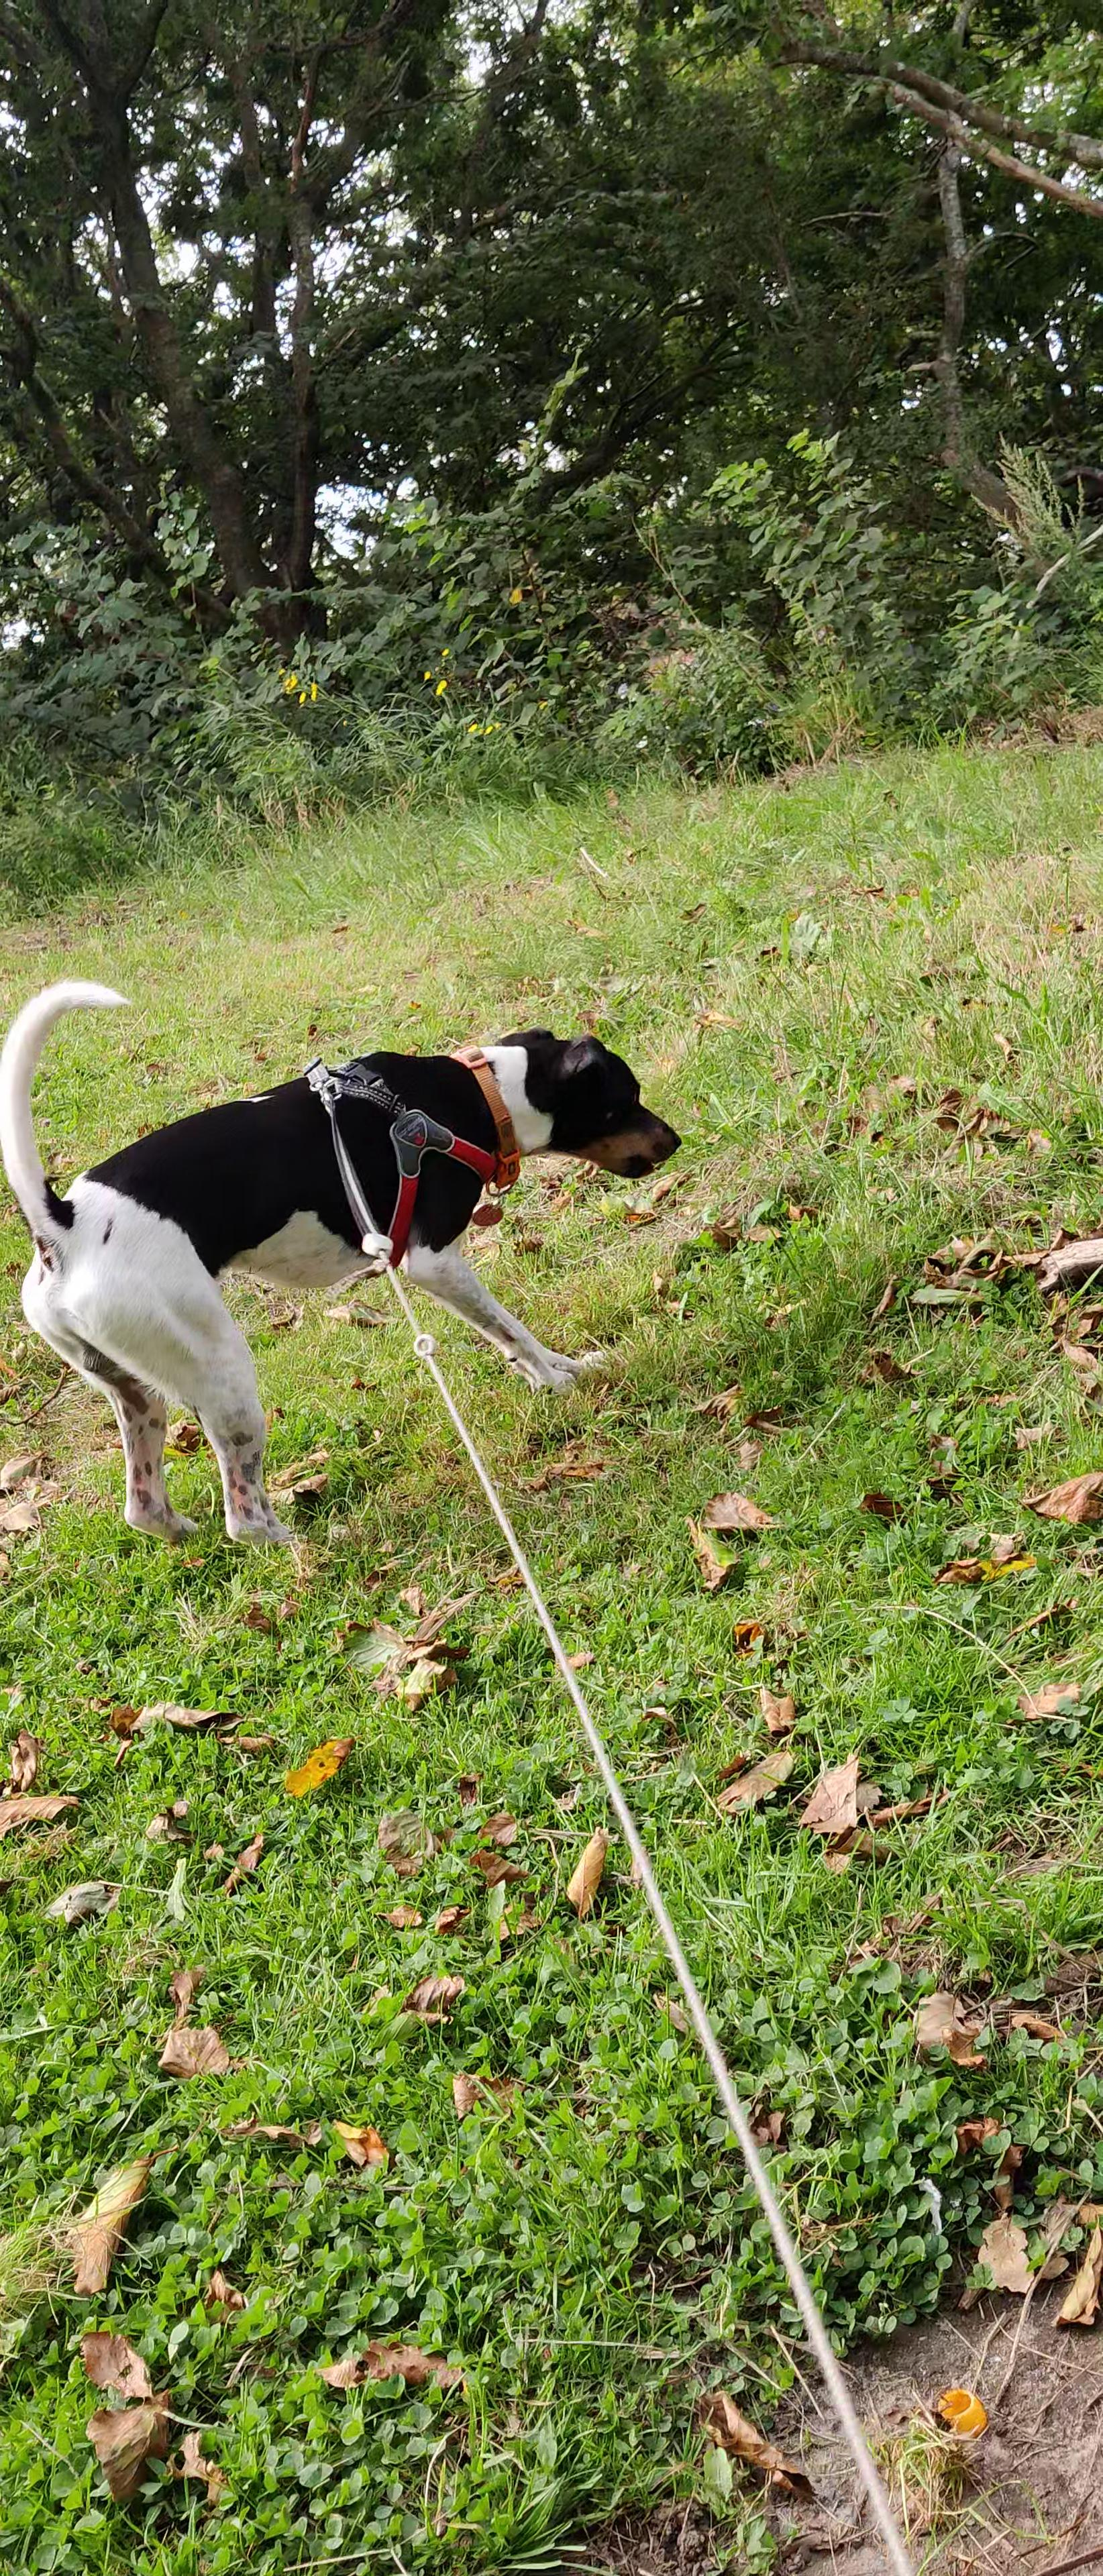Dog: (0, 959, 697, 1566)
